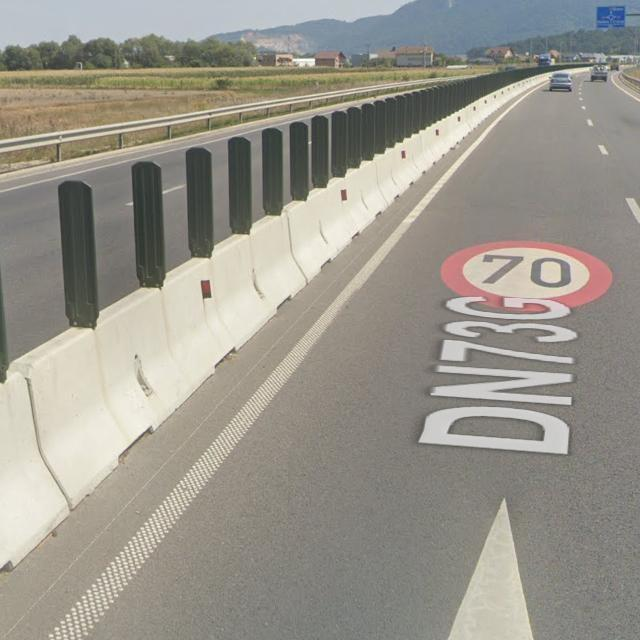forb_speed_over_70: (436, 237, 620, 317)
